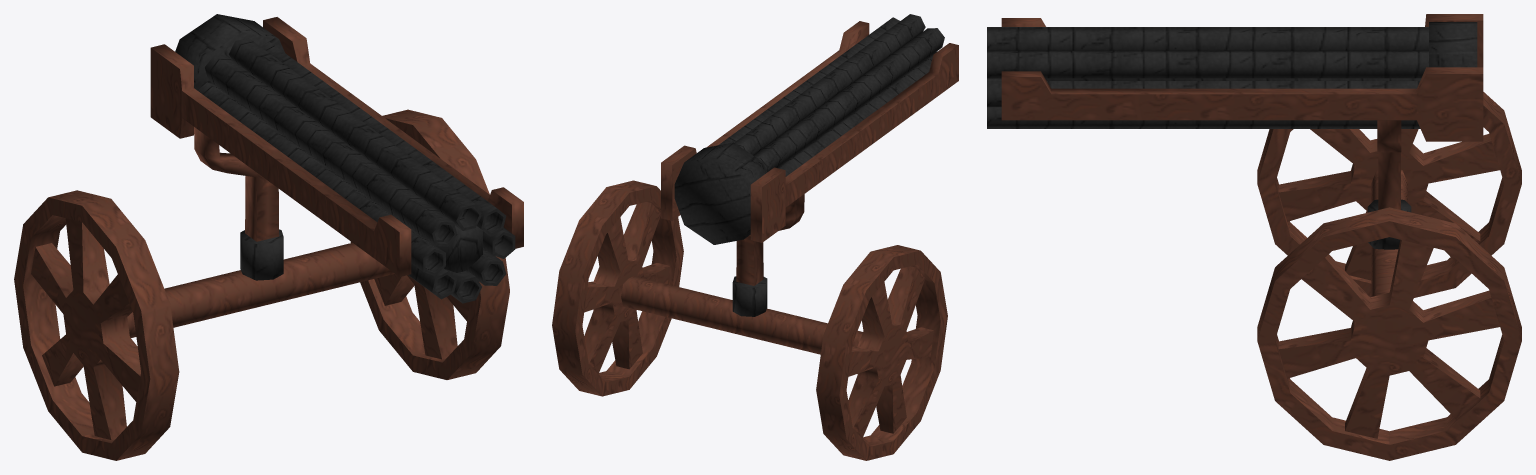
File: Metralhadora_1.glb
The picture shows the model from 3 angles, left to right: view 1: azimuth 30°, elevation 25°; view 2: azimuth 150°, elevation 25°; view 3: azimuth 270°, elevation 25°; orthographic projection. The views are drawn at different scales.
Visible parts, largest first — view 1: Metralhadora.1; view 2: Metralhadora.1; view 3: Metralhadora.1.
Boxes of the visible parts, bbox=[...] form: Metralhadora.1: bbox=[14, 14, 523, 460]; Metralhadora.1: bbox=[552, 14, 958, 460]; Metralhadora.1: bbox=[987, 14, 1521, 460].
Size of the model in its own units: 1.34 by 1.29 by 1.78.
Materials: 1 (1 with a texture image).
